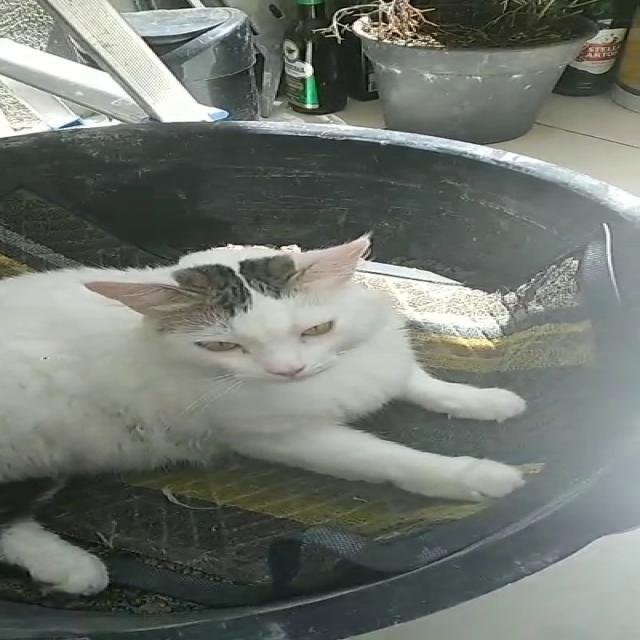Simba: (0, 203, 530, 625)
